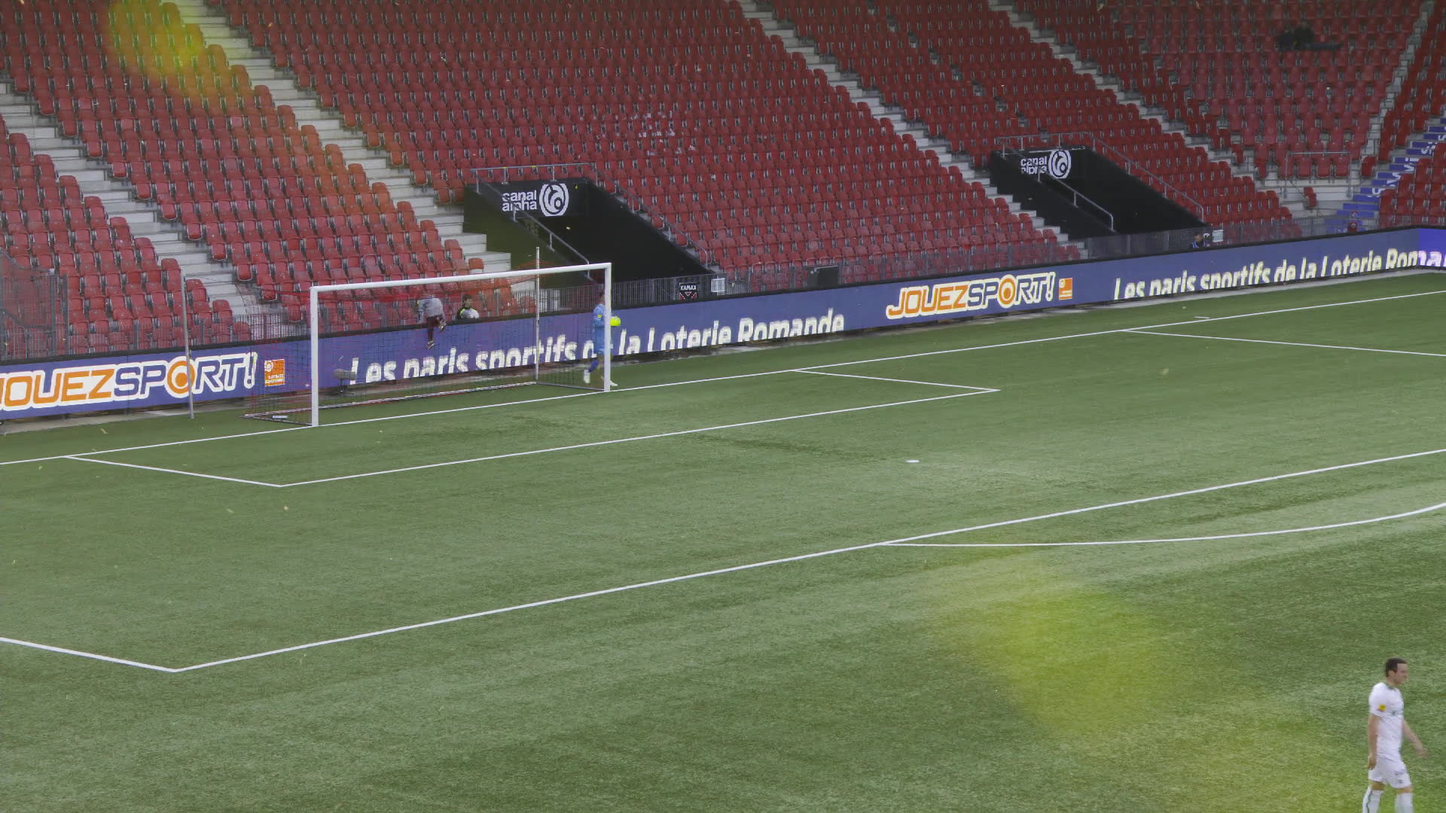player: (1355, 656, 1405, 812), (578, 290, 618, 385)
